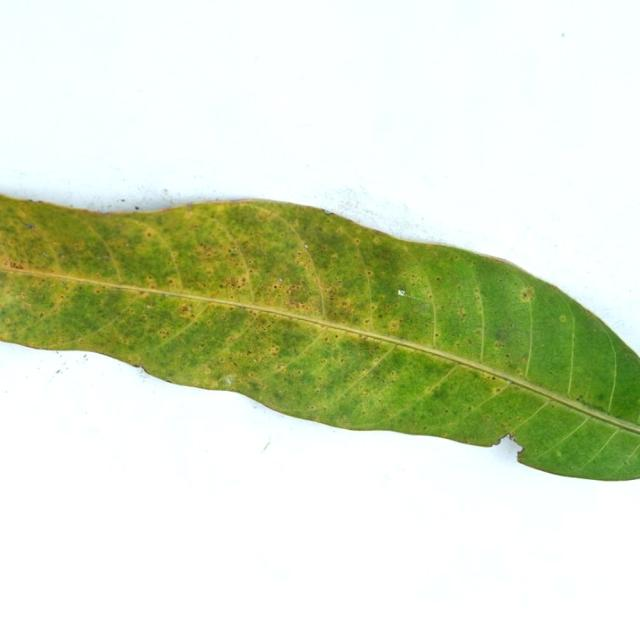Mango: (0, 195, 639, 480)
Powdery_Mildew: (268, 276, 311, 305), (218, 261, 253, 294), (349, 337, 385, 360), (492, 324, 522, 348), (176, 302, 198, 319), (404, 273, 426, 289), (430, 387, 447, 400), (520, 286, 535, 300), (9, 260, 27, 270), (274, 364, 288, 374), (73, 241, 86, 251), (388, 321, 400, 331), (482, 371, 495, 380), (456, 308, 467, 318), (269, 345, 280, 355), (397, 335, 409, 342), (158, 329, 168, 337), (330, 253, 339, 261), (549, 283, 559, 290), (146, 276, 155, 283), (204, 367, 212, 374), (559, 315, 567, 322), (597, 393, 605, 400), (556, 450, 563, 458), (389, 372, 397, 378), (362, 334, 370, 340), (167, 278, 174, 284), (354, 239, 361, 245), (366, 270, 373, 276), (500, 423, 507, 429), (576, 395, 583, 401), (250, 310, 258, 315), (324, 336, 330, 342), (20, 293, 26, 299), (5, 317, 11, 323), (476, 329, 482, 335), (95, 288, 102, 293), (314, 388, 321, 393), (272, 285, 278, 290), (58, 295, 64, 300), (364, 319, 370, 324), (362, 391, 368, 396), (309, 405, 315, 410), (442, 432, 448, 437), (436, 276, 441, 281), (467, 339, 472, 344), (457, 285, 462, 290), (495, 387, 500, 392), (371, 305, 376, 310), (78, 338, 83, 343), (232, 362, 237, 367), (60, 254, 65, 259), (147, 232, 151, 237), (334, 335, 339, 339), (39, 313, 44, 317), (428, 294, 432, 299), (423, 426, 428, 430), (468, 406, 472, 410), (435, 333, 439, 337), (444, 409, 448, 413), (498, 278, 502, 282), (200, 343, 204, 347), (378, 314, 382, 318), (549, 370, 553, 374), (550, 405, 555, 408)
